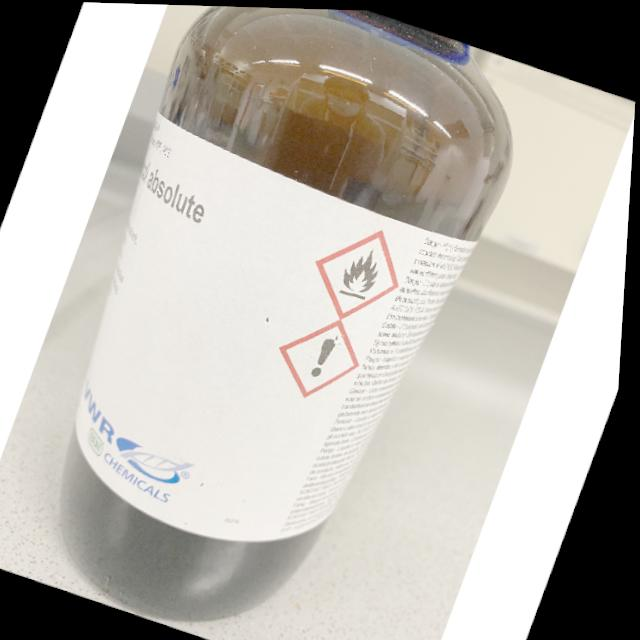flammable: (302, 208, 419, 331)
health-ozone layer hazard: (266, 301, 376, 409)
